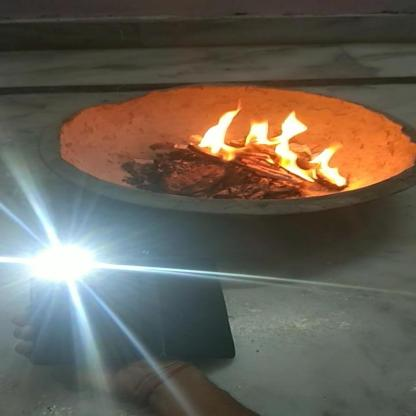fire: (190, 103, 360, 190)
